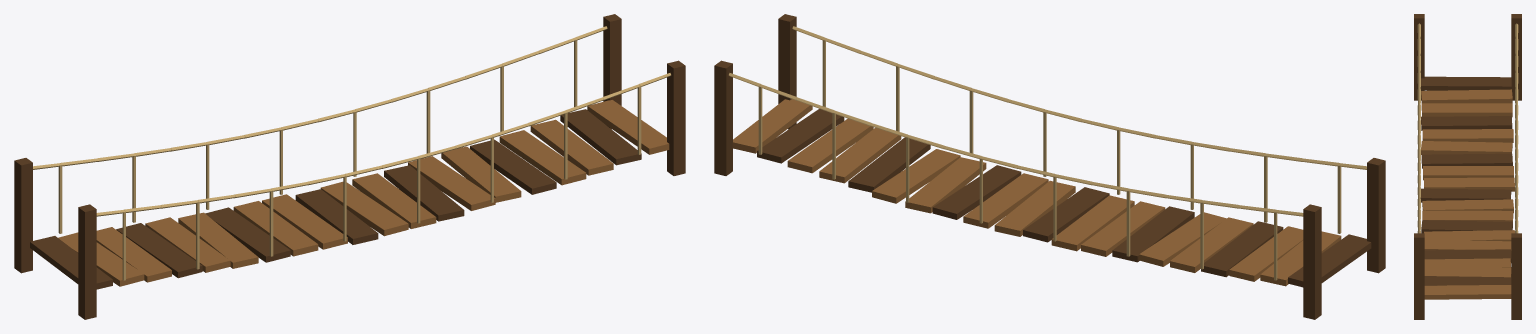
The model's file is bridge_wood.glb.
3 views of the same model, side by side, from view 1: azimuth 30°, elevation 25°; view 2: azimuth 150°, elevation 25°; view 3: azimuth 270°, elevation 25° (orthographic). The views are drawn at different scales.
Parts seen in each view (by area): view 1: wood-col, wood_dark-col, rope; view 2: wood-col, wood_dark-col, rope; view 3: wood-col, wood_dark-col, rope.
Part boxes in pixels (bbox=[...]): wood-col: bbox=[58, 100, 669, 286]; wood_dark-col: bbox=[14, 14, 685, 319]; rope: bbox=[33, 26, 670, 280]; wood-col: bbox=[732, 99, 1341, 286]; wood_dark-col: bbox=[714, 14, 1385, 319]; rope: bbox=[729, 26, 1366, 280]; wood-col: bbox=[1421, 89, 1514, 299]; wood_dark-col: bbox=[1414, 14, 1521, 319]; rope: bbox=[1417, 23, 1518, 233].
Bounding box in the file's own units: 8.16 × 1.4 × 1.66.
